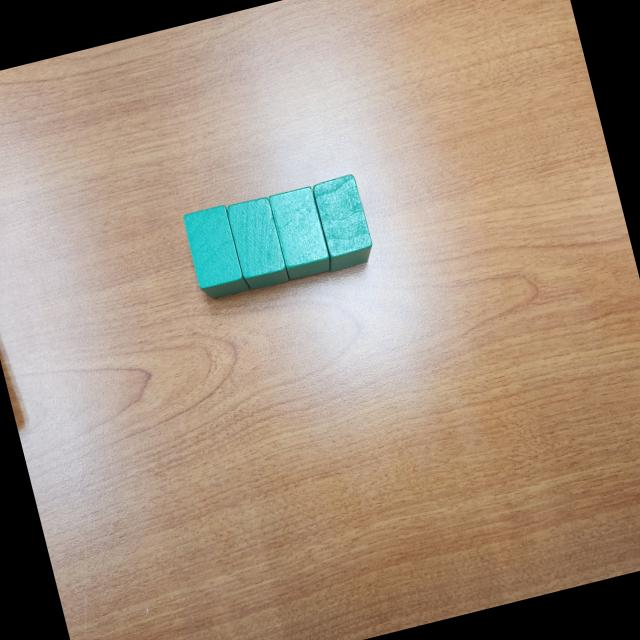green: (180, 202, 252, 304), (306, 172, 378, 274), (267, 184, 334, 284), (223, 194, 290, 292)
